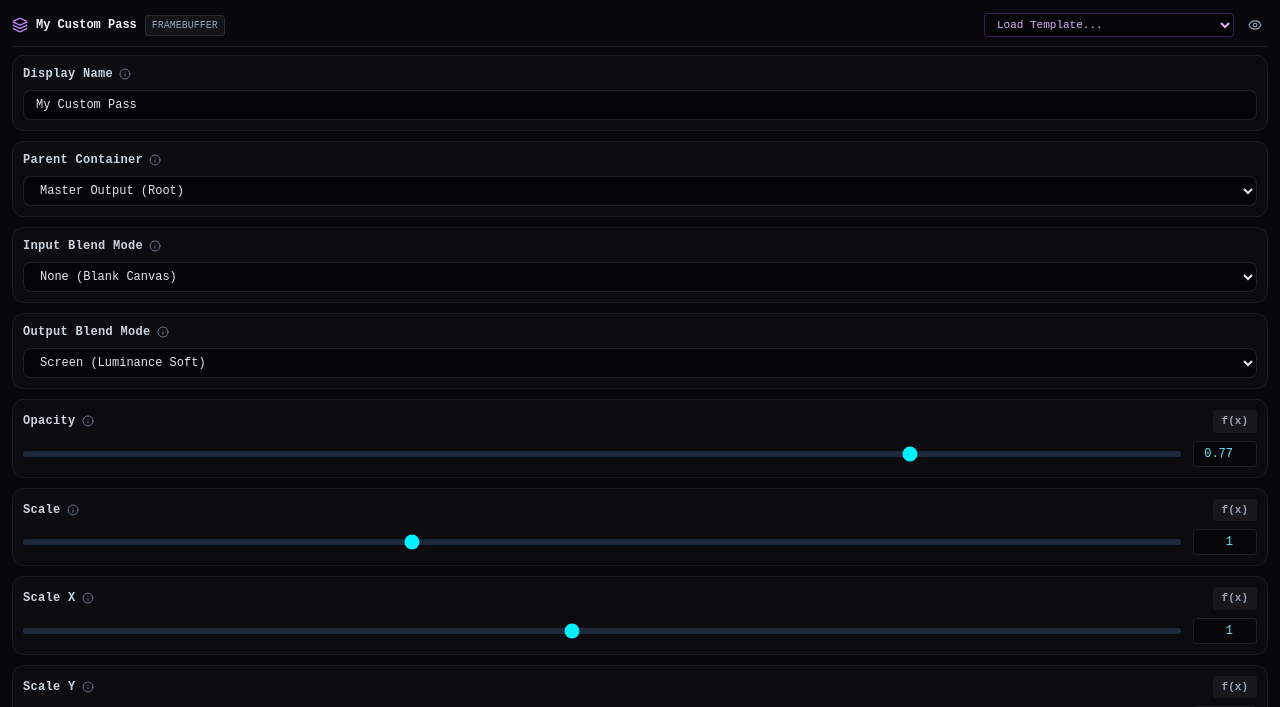
Test: Component Preset Selector & Dirty-State Overwrite Guard (Task 3.4) › Template Overwrite Confirmation Modal › cancels template overwrite when clicking Keep Current
Select "Analog Phosphor Trails" in the dropdown with test id "component-preset-dropdown". click: [1109, 25]
box: [984,13,1234,37]
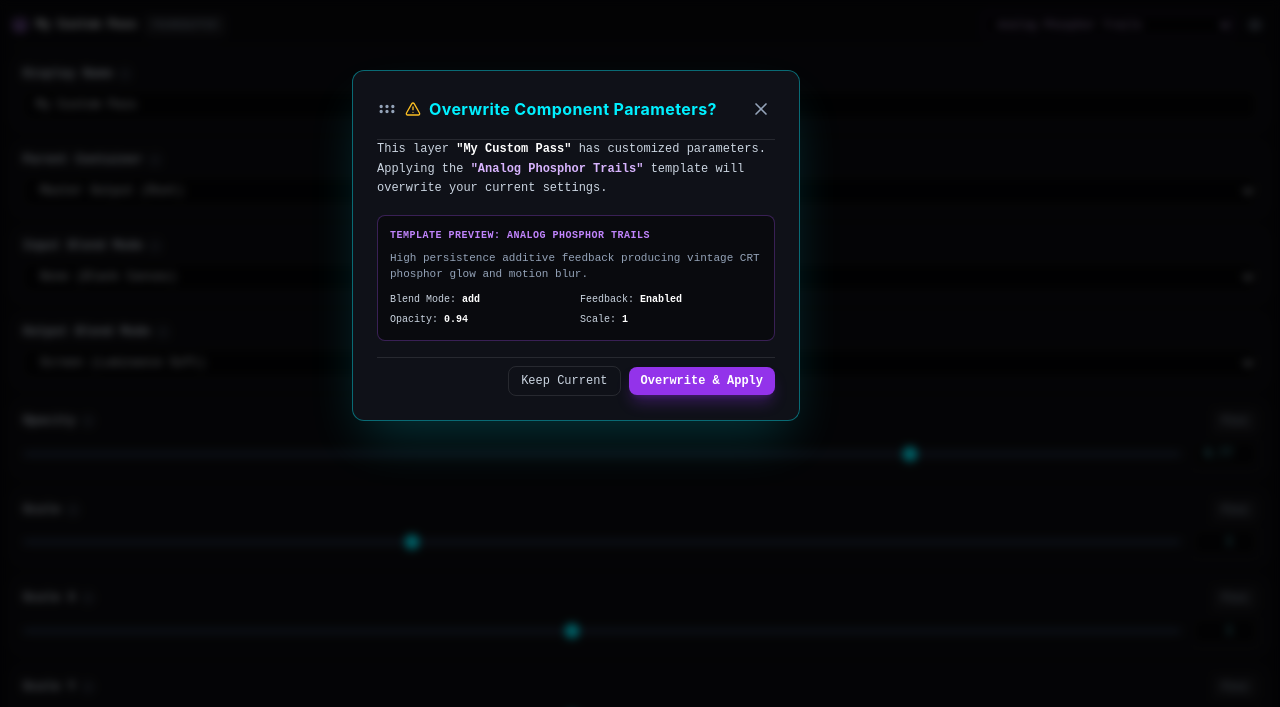
Result: the heading "Overwrite Component Parameters?" is shown at [429,97,717,121]
Note: Click Keep Current
Click the button with test id "cancel-overwrite-template-btn". click: [564, 380]
box: [508,366,621,396]
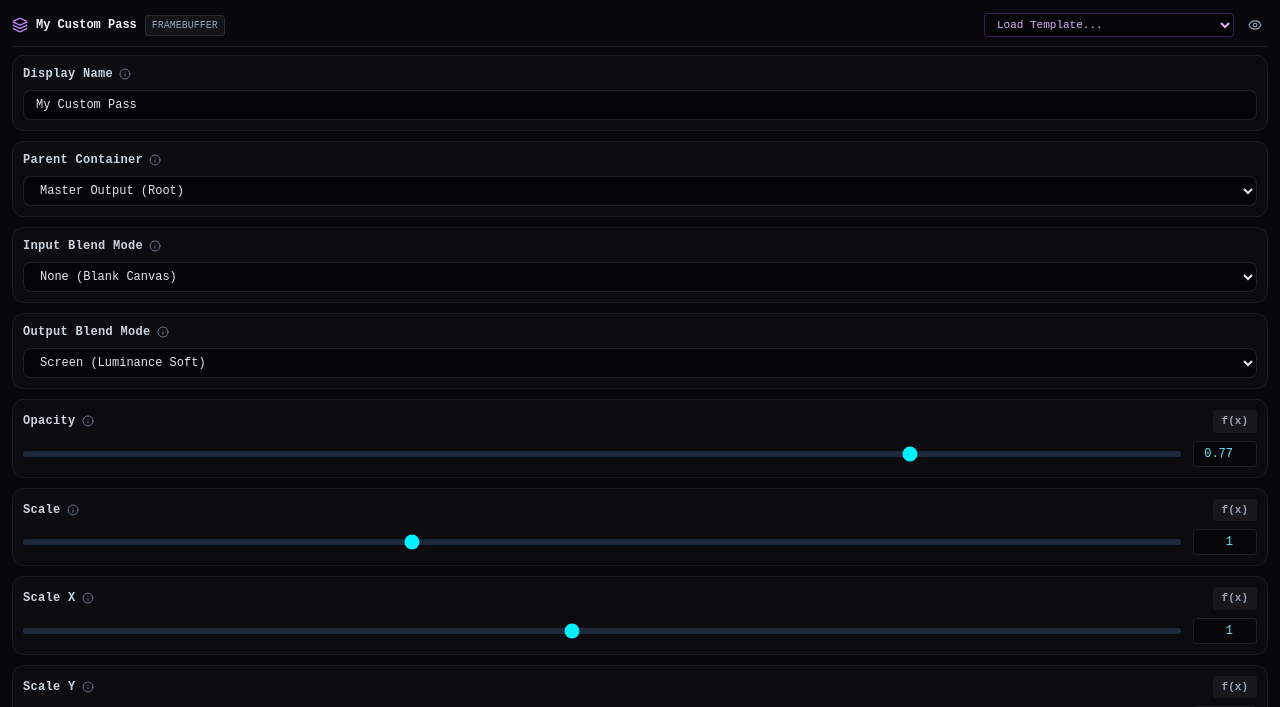
Result: the heading "Overwrite Component Parameters?" is gone
